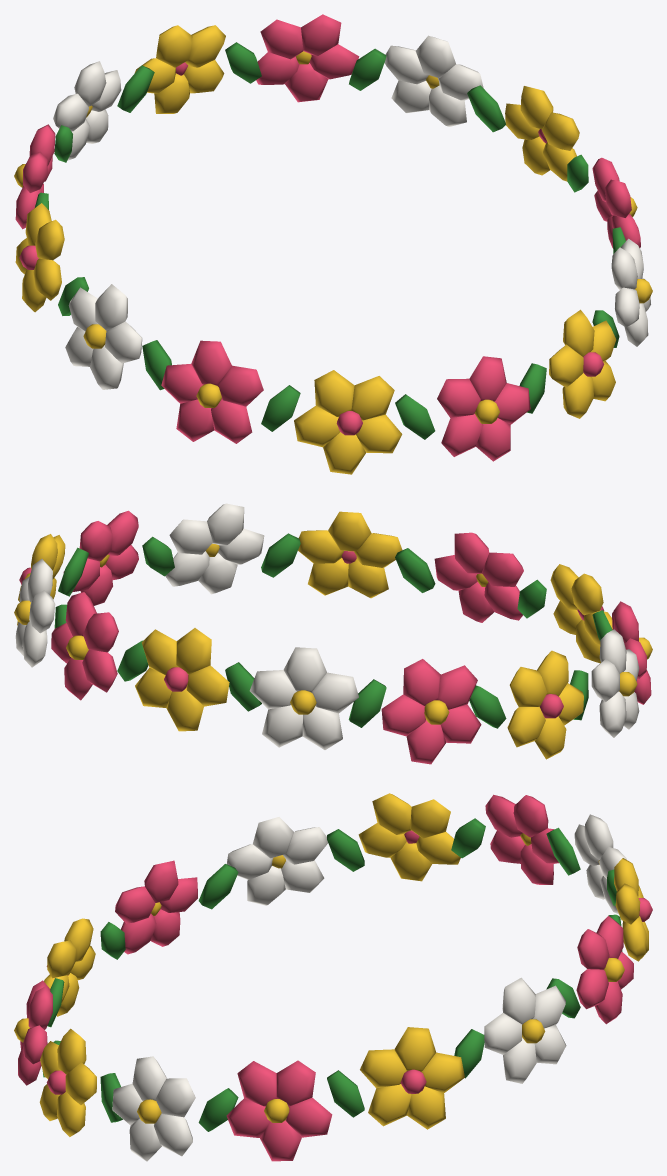
Rendered from cuello_flores.glb.
The picture shows the model from 3 angles, top to bottom: view 1: azimuth 30°, elevation 25°; view 2: azimuth 150°, elevation 25°; view 3: azimuth 270°, elevation 25°; orthographic projection.
Parts seen in each view (by area): view 1: cuello_flores; view 2: cuello_flores; view 3: cuello_flores.
Part boxes in pixels (x1=…): cuello_flores: x1=14, y1=14, x2=652, y2=474; cuello_flores: x1=14, y1=503, x2=652, y2=764; cuello_flores: x1=14, y1=793, x2=652, y2=1161.
Size of the model in its own units: 0.7572 by 0.288 by 0.7683.
